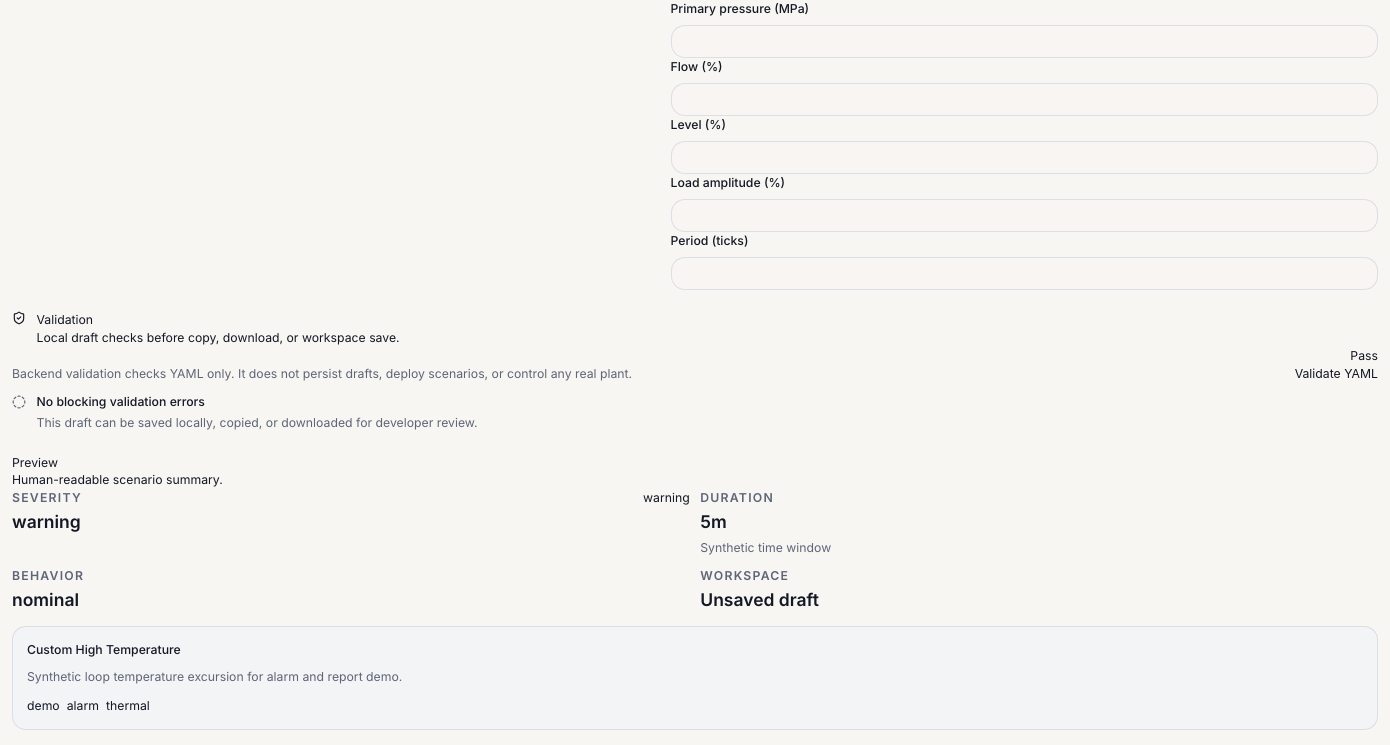
Test: ScenarioAuthoringPage › runs backend YAML validation without persisting or deploying drafts
(page scrolled)
Click the button with test id "scenario-authoring-backend-validate". click: (1336, 374)
box: x1=1295 y1=365 x2=1378 y2=382
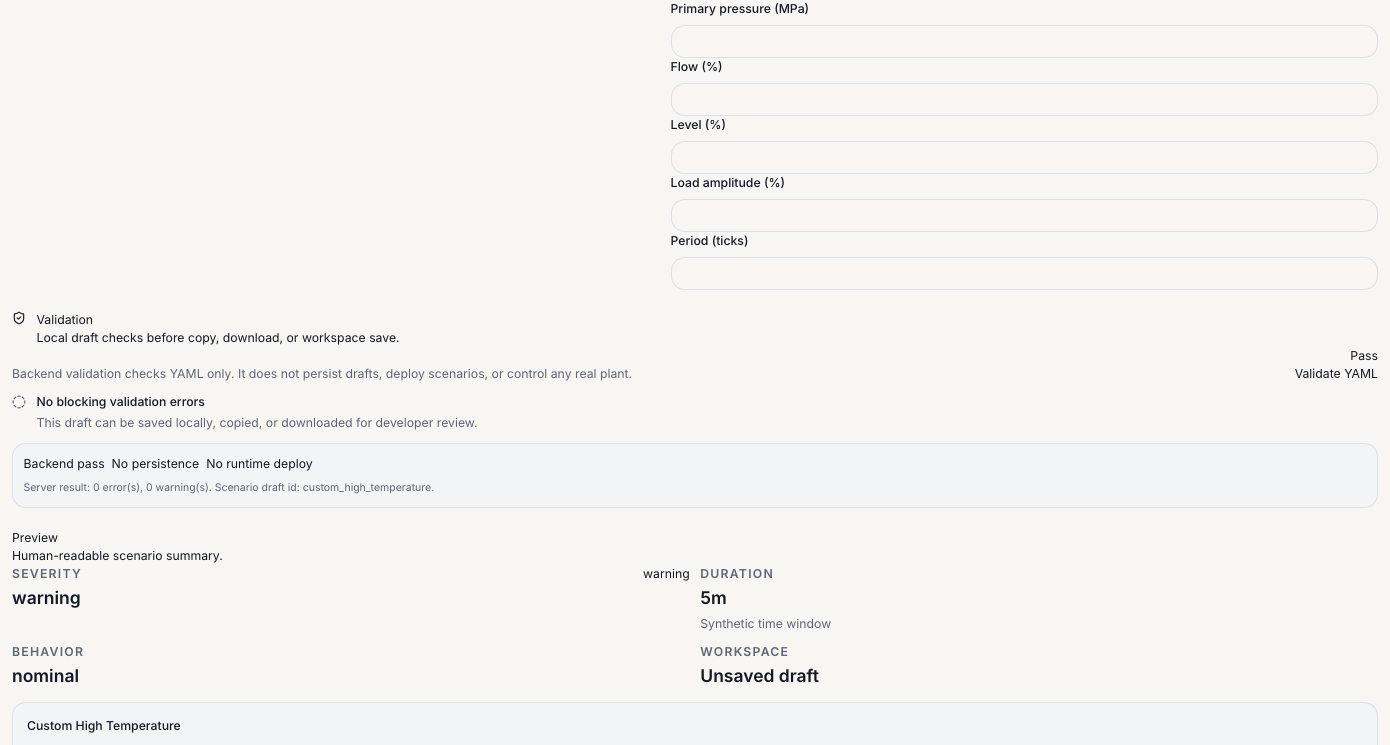
Now the text "Backend pass" is shown, box x1=24 y1=454 x2=105 y2=472
Now the text "No persistence" is shown, box x1=112 y1=454 x2=199 y2=472
Now the text "No runtime deploy" is shown, box x1=206 y1=454 x2=313 y2=472
